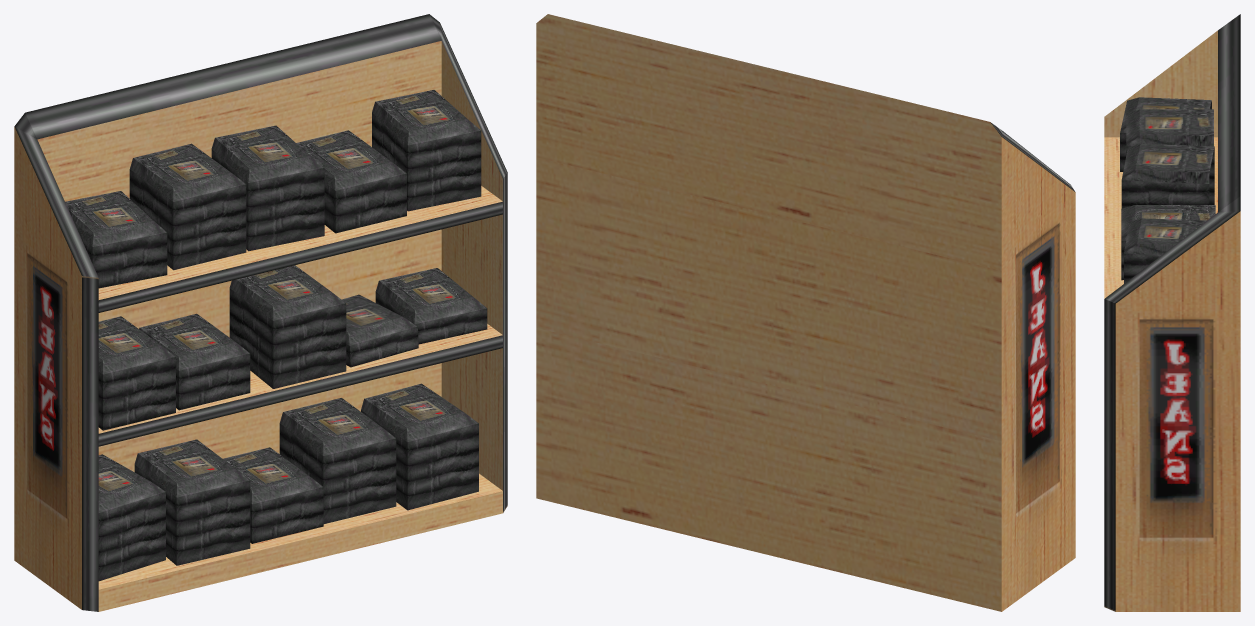
The model's file is jeanshelves4.fbx.
3 views of the same model, side by side, from view 1: azimuth 30°, elevation 25°; view 2: azimuth 150°, elevation 25°; view 3: azimuth 270°, elevation 25° (orthographic). The views are drawn at different scales.
Visible parts, largest first — view 1: mesh_0; view 2: mesh_0; view 3: mesh_0.
Boxes of the visible parts, <box> form: mesh_0: <box>14,14,507,611</box>; mesh_0: <box>536,14,1075,611</box>; mesh_0: <box>1104,14,1240,611</box>.
Size of the model in its own units: 160 by 160 by 47.89.
1 material, 1 textured.
